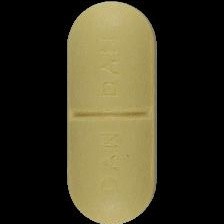54868-0159: (0, 0, 224, 224)
